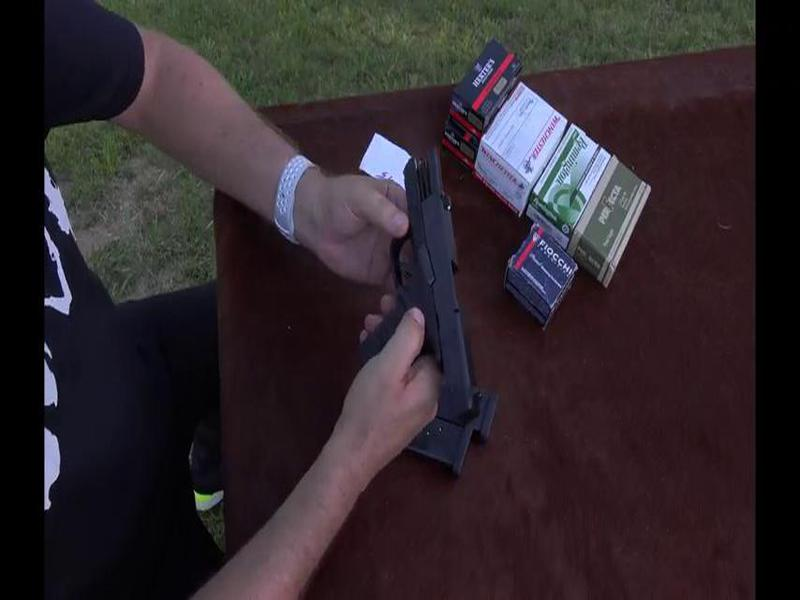Pistola: (329, 126, 506, 438)
